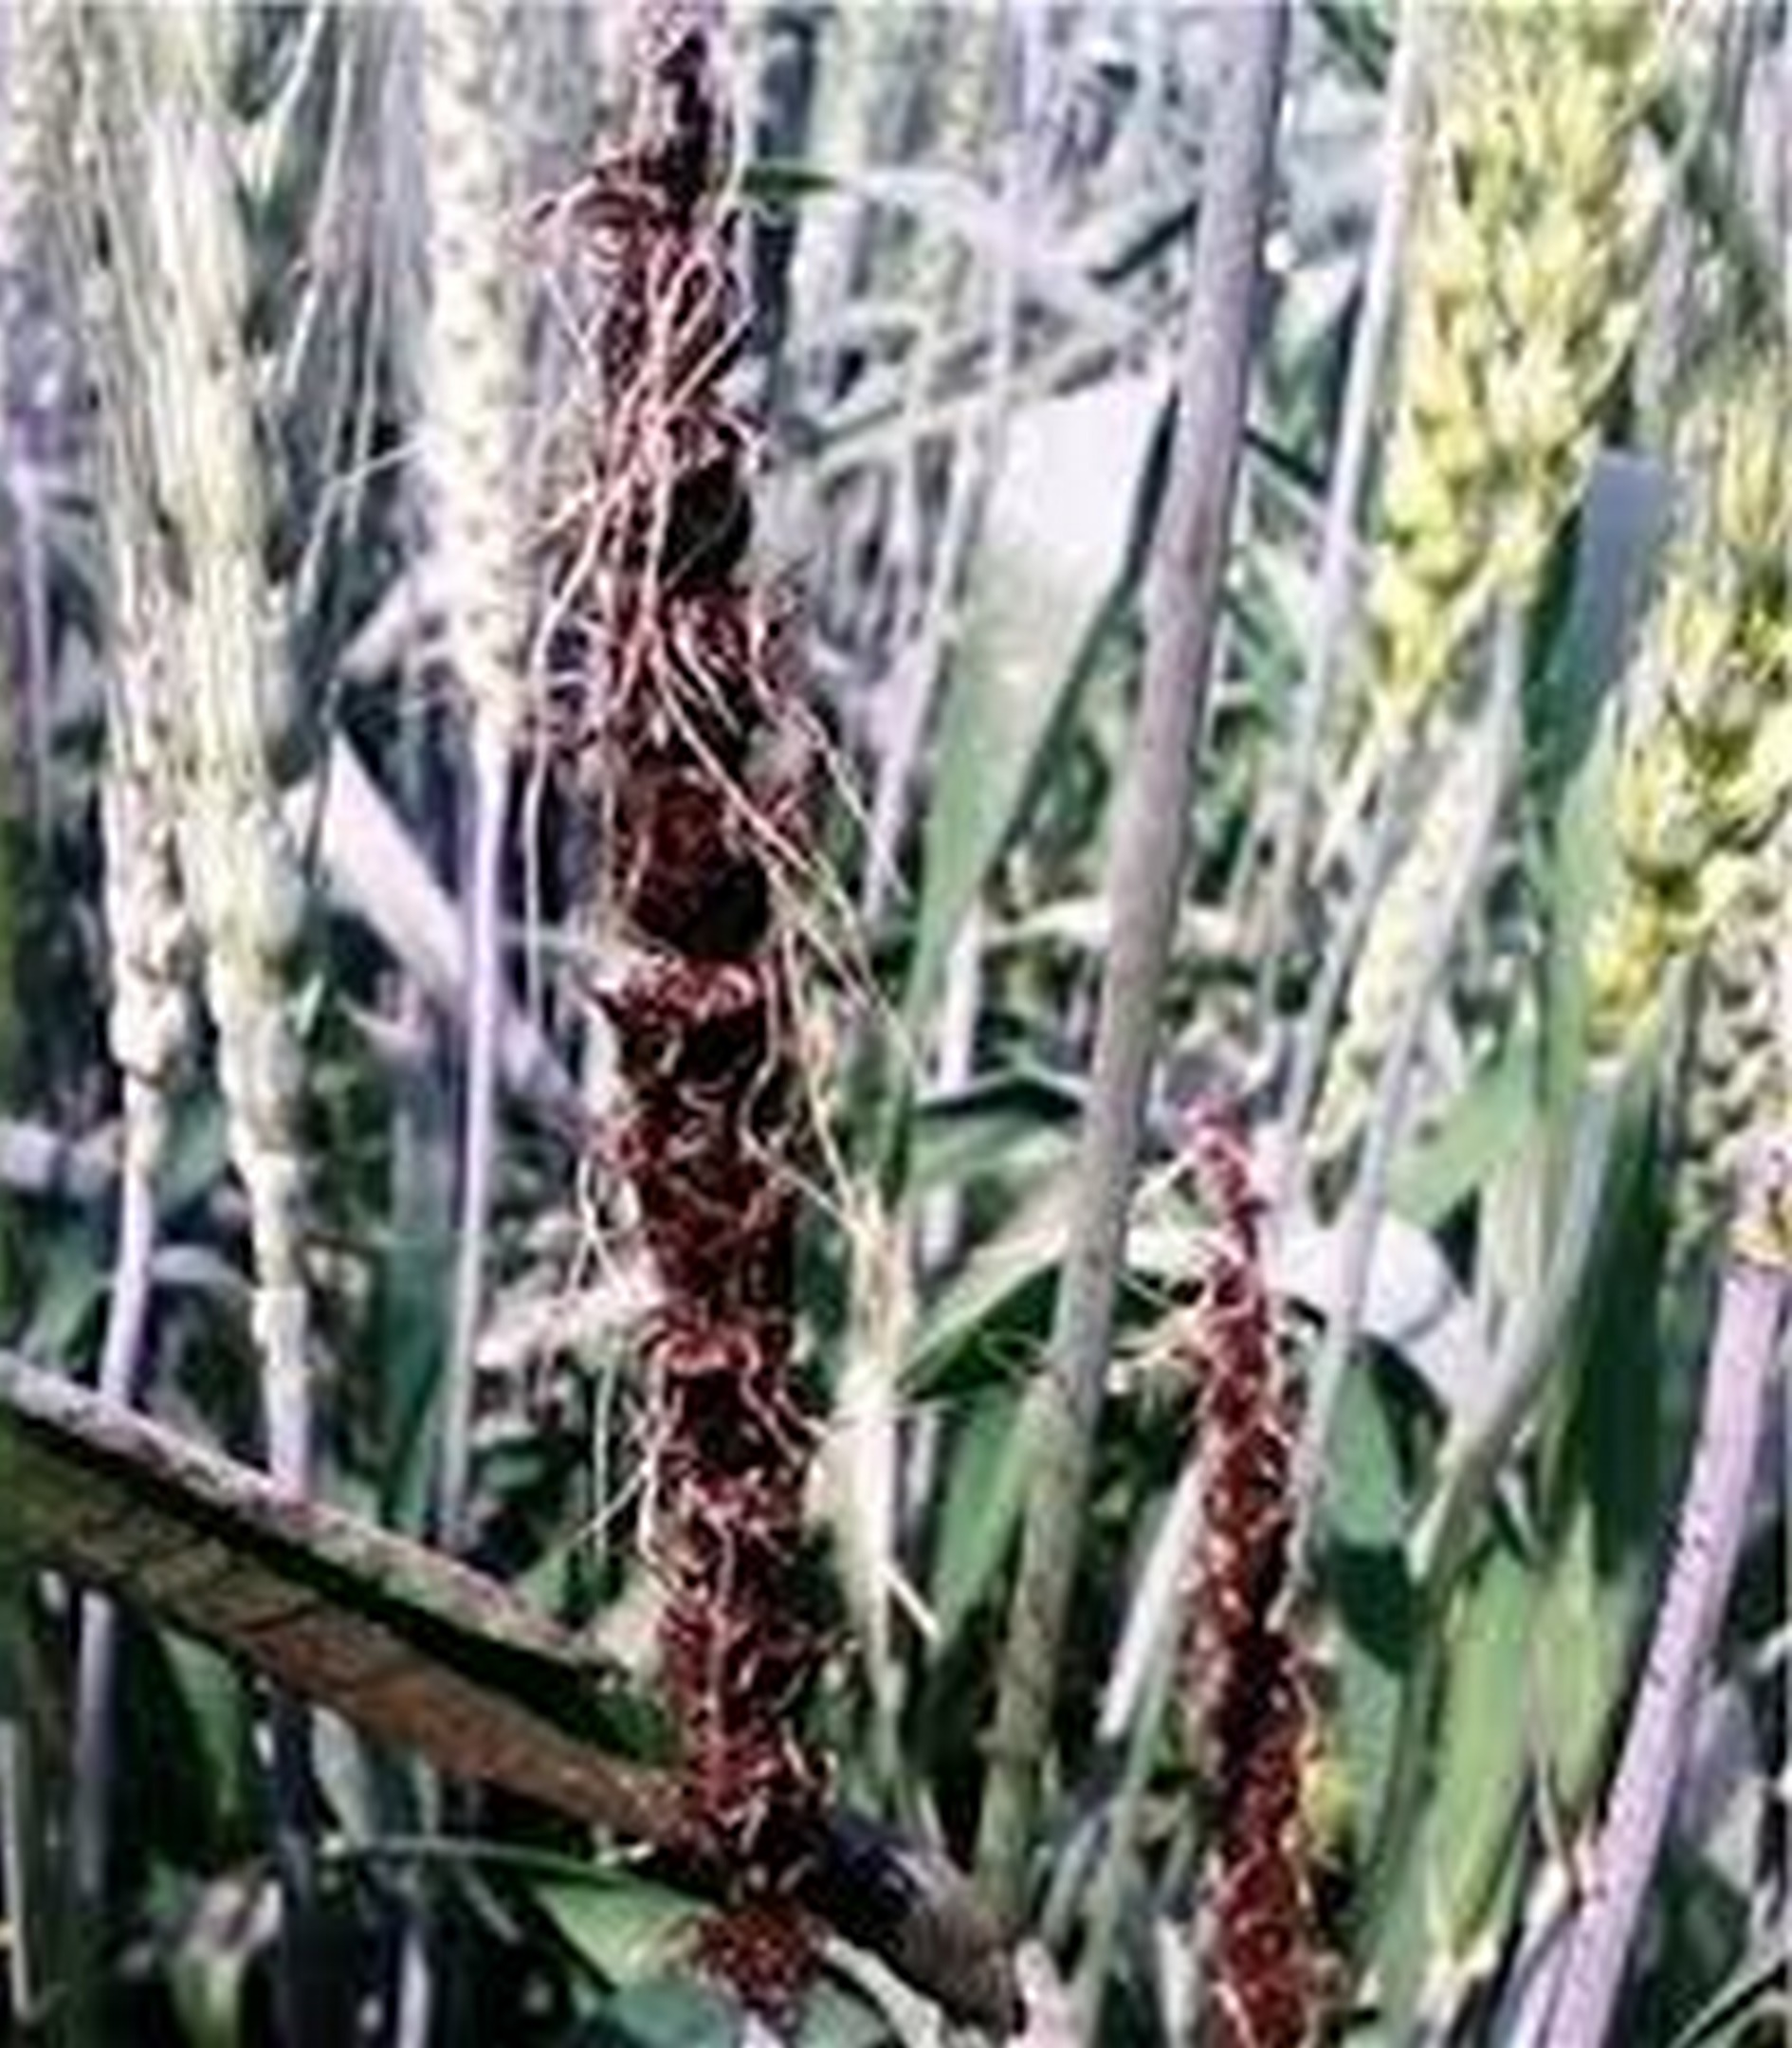Wheat Loose Smut: (519, 124, 869, 1736), (1160, 1162, 1372, 2020)
